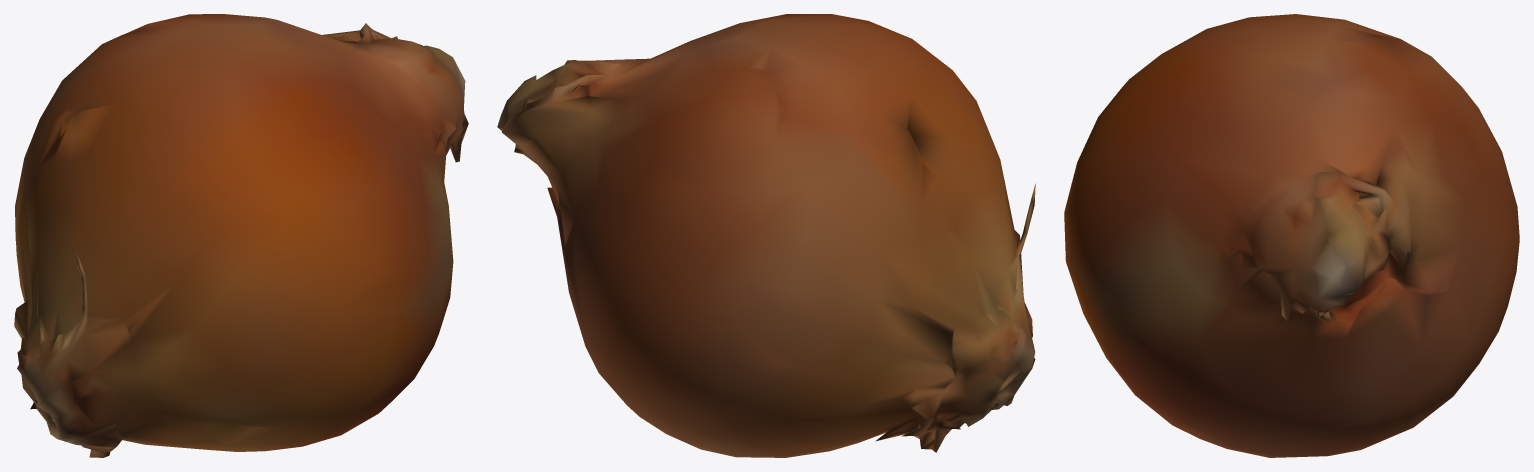
The model's file is Onion.fbx.
The picture shows the model from 3 angles, left to right: view 1: azimuth 30°, elevation 25°; view 2: azimuth 150°, elevation 25°; view 3: azimuth 270°, elevation 25°; orthographic projection. The views are drawn at different scales.
Visible parts, largest first — view 1: Onion_2; view 2: Onion_2; view 3: Onion_2.
Part boxes in pixels (x1=…): Onion_2: x1=14, y1=14, x2=468, y2=457; Onion_2: x1=497, y1=14, x2=1035, y2=457; Onion_2: x1=1064, y1=14, x2=1519, y2=457.
Bounding box in the file's own units: 217 × 171 × 183.
